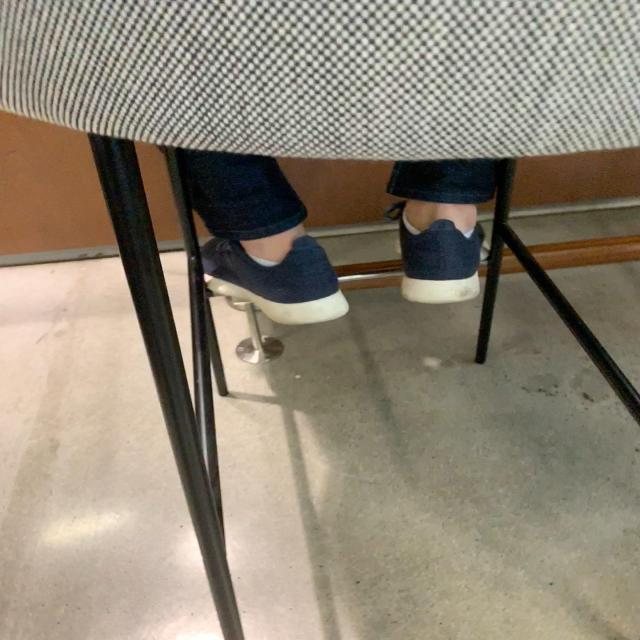shoe: (200, 233, 351, 327), (389, 200, 485, 306)
